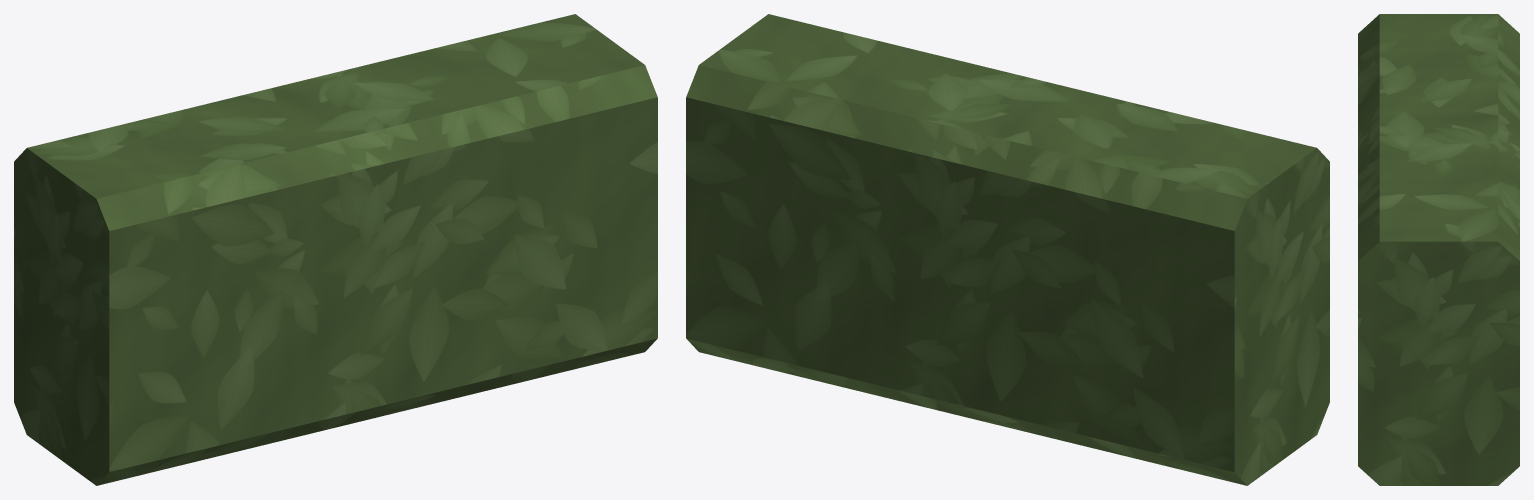
Rendered from Furn_Hedge.fbx.
3 renders of one model, left to right at view 1: azimuth 30°, elevation 25°; view 2: azimuth 150°, elevation 25°; view 3: azimuth 270°, elevation 25°, orthographic. The views are drawn at different scales.
Visible parts, largest first — view 1: Furn_Hedge_Mesh; view 2: Furn_Hedge_Mesh; view 3: Furn_Hedge_Mesh.
Boxes of the visible parts, bbox=[...] form: Furn_Hedge_Mesh: bbox=[14, 14, 657, 485]; Furn_Hedge_Mesh: bbox=[686, 14, 1329, 485]; Furn_Hedge_Mesh: bbox=[1358, 14, 1519, 485].
Size of the model in its own units: 2 by 1 by 0.6.
Materials: 1 (1 with a texture image).
